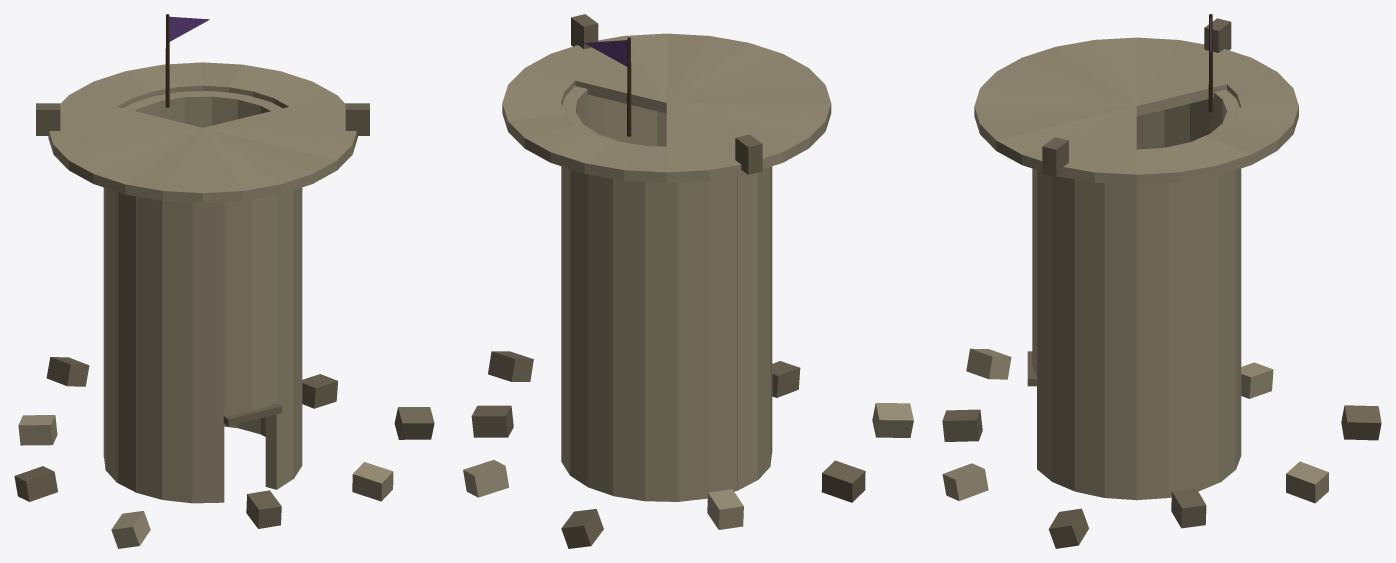
The model's file is tower_ruin_hollow.glb.
3 renders of one model, left to right at view 1: azimuth 30°, elevation 25°; view 2: azimuth 150°, elevation 25°; view 3: azimuth 270°, elevation 25°, orthographic. The views are drawn at different scales.
Visible parts, largest first — view 1: tower_ruin_hollow; view 2: tower_ruin_hollow; view 3: tower_ruin_hollow.
Part boxes in pixels (x1,y1,x2,y2): tower_ruin_hollow: [14, 14, 434, 548]; tower_ruin_hollow: [463, 14, 913, 548]; tower_ruin_hollow: [942, 14, 1381, 548].
Size of the model in its own units: 19.74 by 21 by 18.94.
